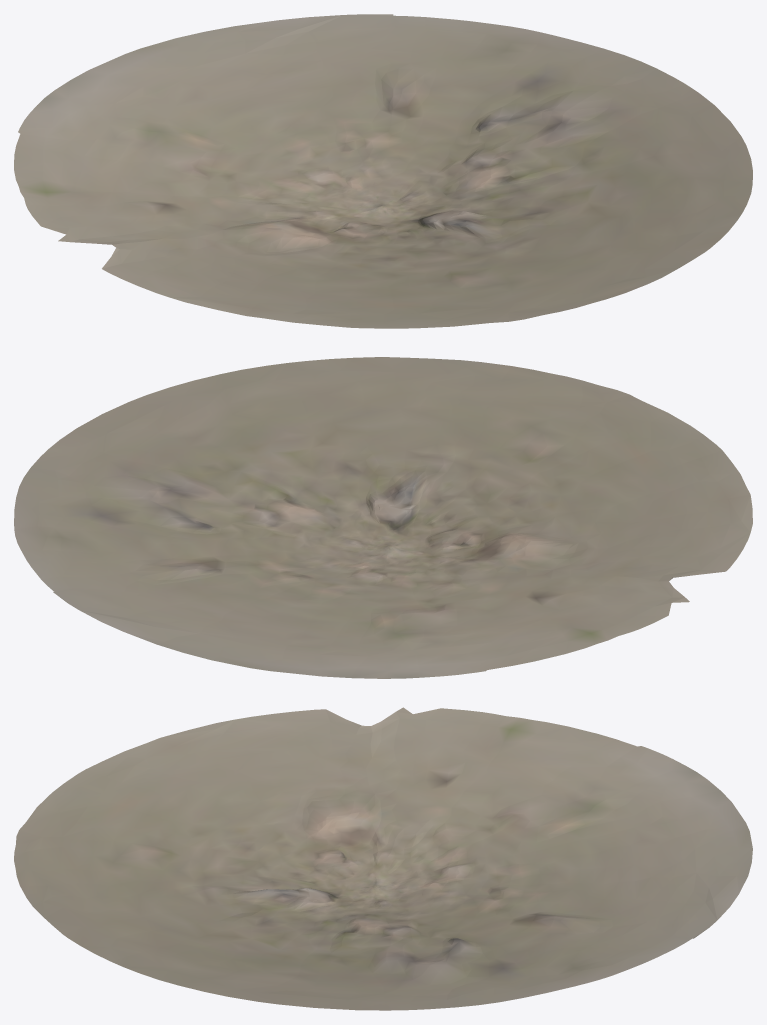
The model's file is ground.fbx.
3 renders of one model, top to bottom at view 1: azimuth 30°, elevation 25°; view 2: azimuth 150°, elevation 25°; view 3: azimuth 270°, elevation 25°, orthographic. The views are drawn at different scales.
Parts seen in each view (by area): view 1: geometry_0.001; view 2: geometry_0.001; view 3: geometry_0.001.
Boxes of the visible parts, bbox=[...] form: geometry_0.001: bbox=[14, 14, 752, 328]; geometry_0.001: bbox=[14, 357, 752, 678]; geometry_0.001: bbox=[14, 707, 752, 1010].
Bounding box in the file's own units: 32.66 × 1.71 × 33.64.
